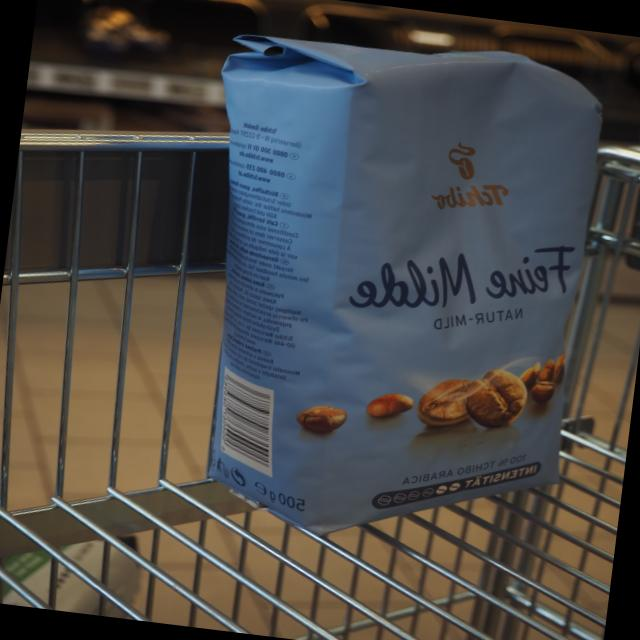FM Bohne: (162, 11, 618, 568)
